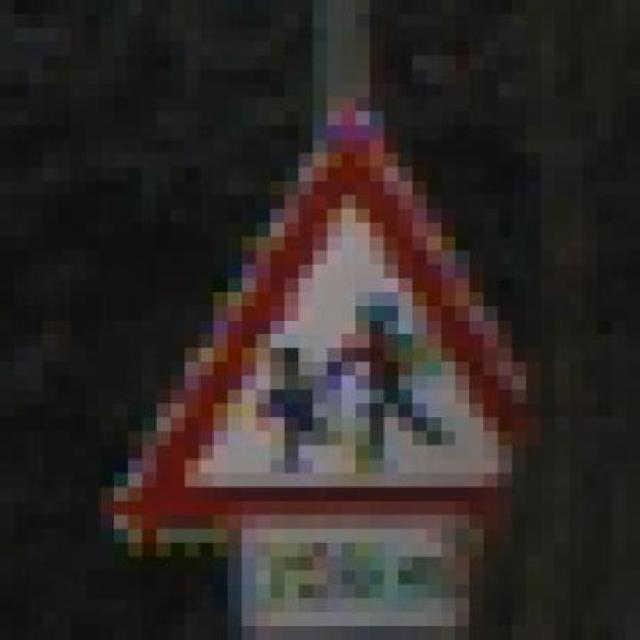Beware of children: (85, 66, 583, 568)
